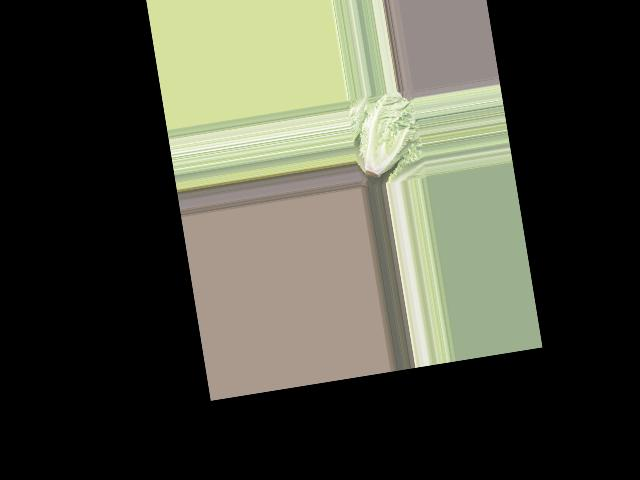lettuce: (346, 91, 421, 183)
